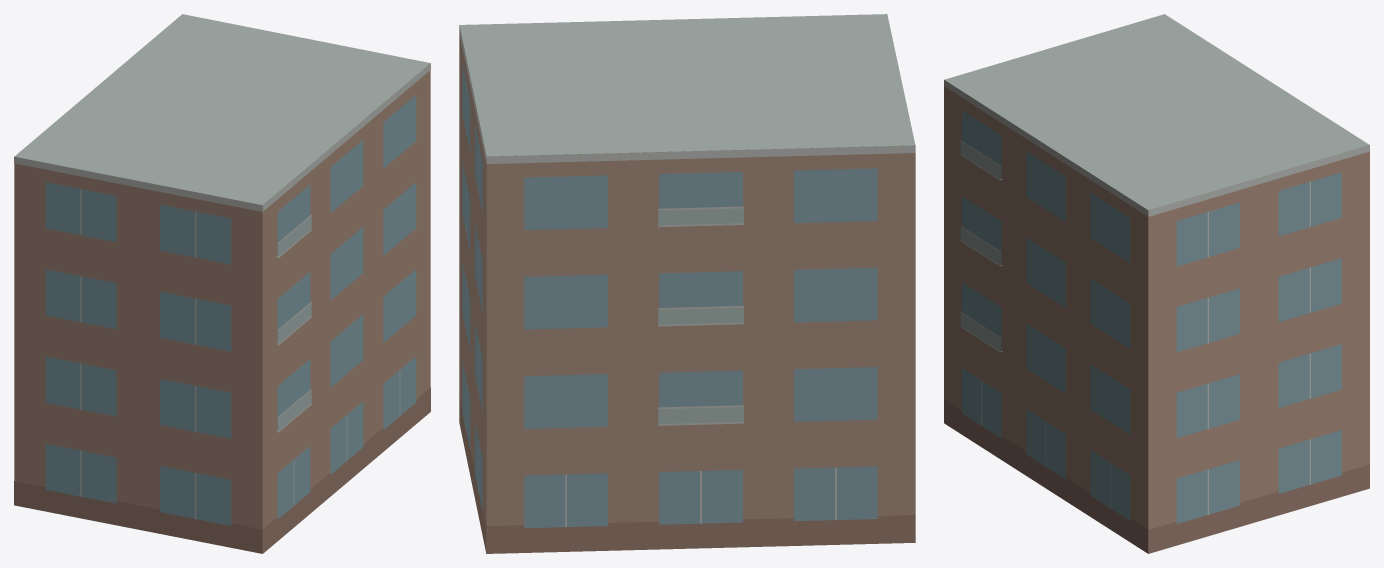
Rendered from survey-upis-32679385.glb.
3 views of the same model, side by side, from view 1: azimuth 30°, elevation 25°; view 2: azimuth 150°, elevation 25°; view 3: azimuth 270°, elevation 25° (orthographic). The views are drawn at different scales.
Parts seen in each view (by area): view 1: survey-upis-32679385.tmp; view 2: survey-upis-32679385.tmp; view 3: survey-upis-32679385.tmp.
Boxes of the visible parts, left/top/right/bottom form: survey-upis-32679385.tmp: left=14, top=14, right=430, bottom=553; survey-upis-32679385.tmp: left=459, top=14, right=915, bottom=553; survey-upis-32679385.tmp: left=944, top=14, right=1369, bottom=553.
Size of the model in its own units: 15.58 by 12.7 by 14.27.
